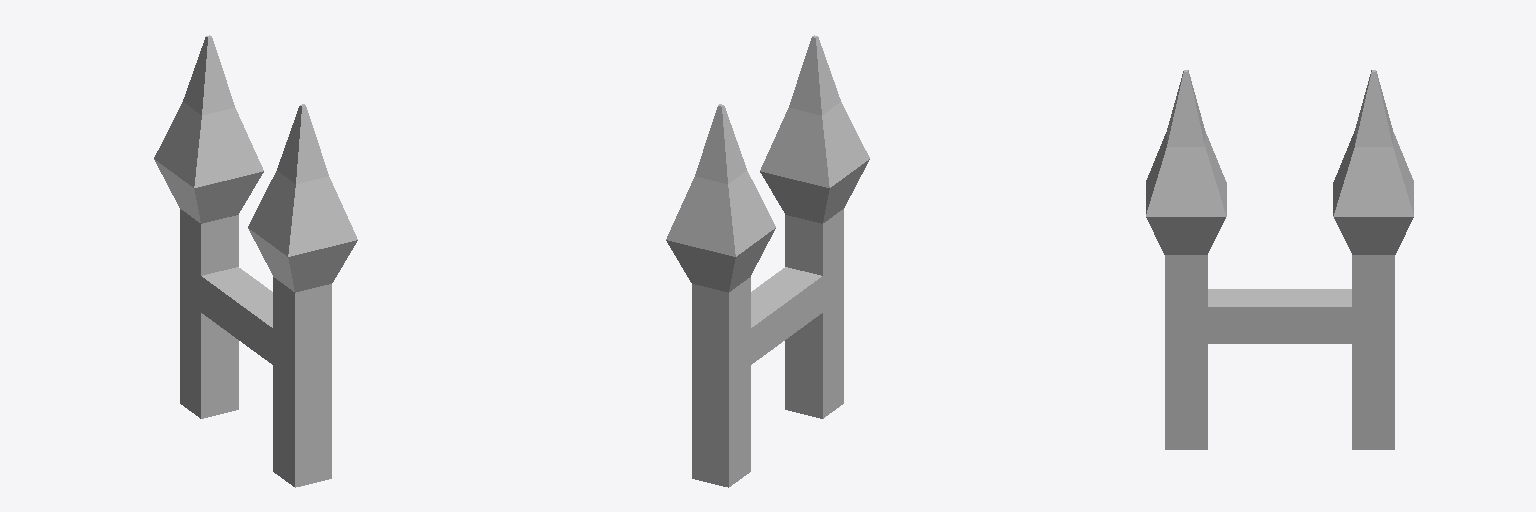
Rendered from bridge.obj.
3 views of the same model, side by side, from view 1: azimuth 30°, elevation 25°; view 2: azimuth 150°, elevation 25°; view 3: azimuth 270°, elevation 25° (orthographic).
Parts seen in each view (by area): view 1: bridge_Cube.001; view 2: bridge_Cube.001; view 3: bridge_Cube.001.
Part boxes in pixels (x1,y1,x2,y2): bridge_Cube.001: (154, 35, 357, 487); bridge_Cube.001: (666, 35, 869, 487); bridge_Cube.001: (1146, 70, 1413, 449).
Size of the model in its own units: 3.75 by 18.93 by 12.46.